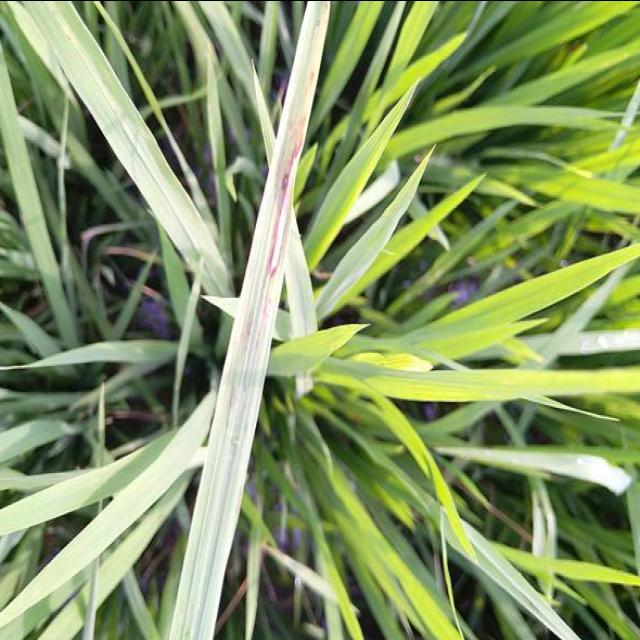Leaf Streak: (242, 0, 329, 369)
